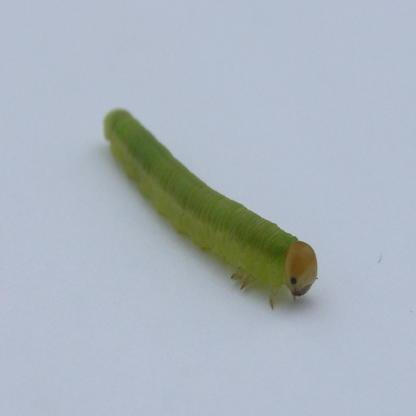sawfly: (100, 98, 327, 315)
